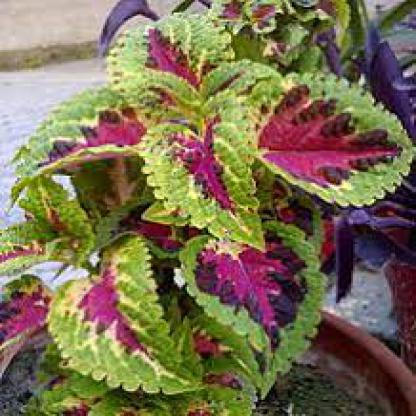Bunga Coleus: (35, 31, 316, 365)
